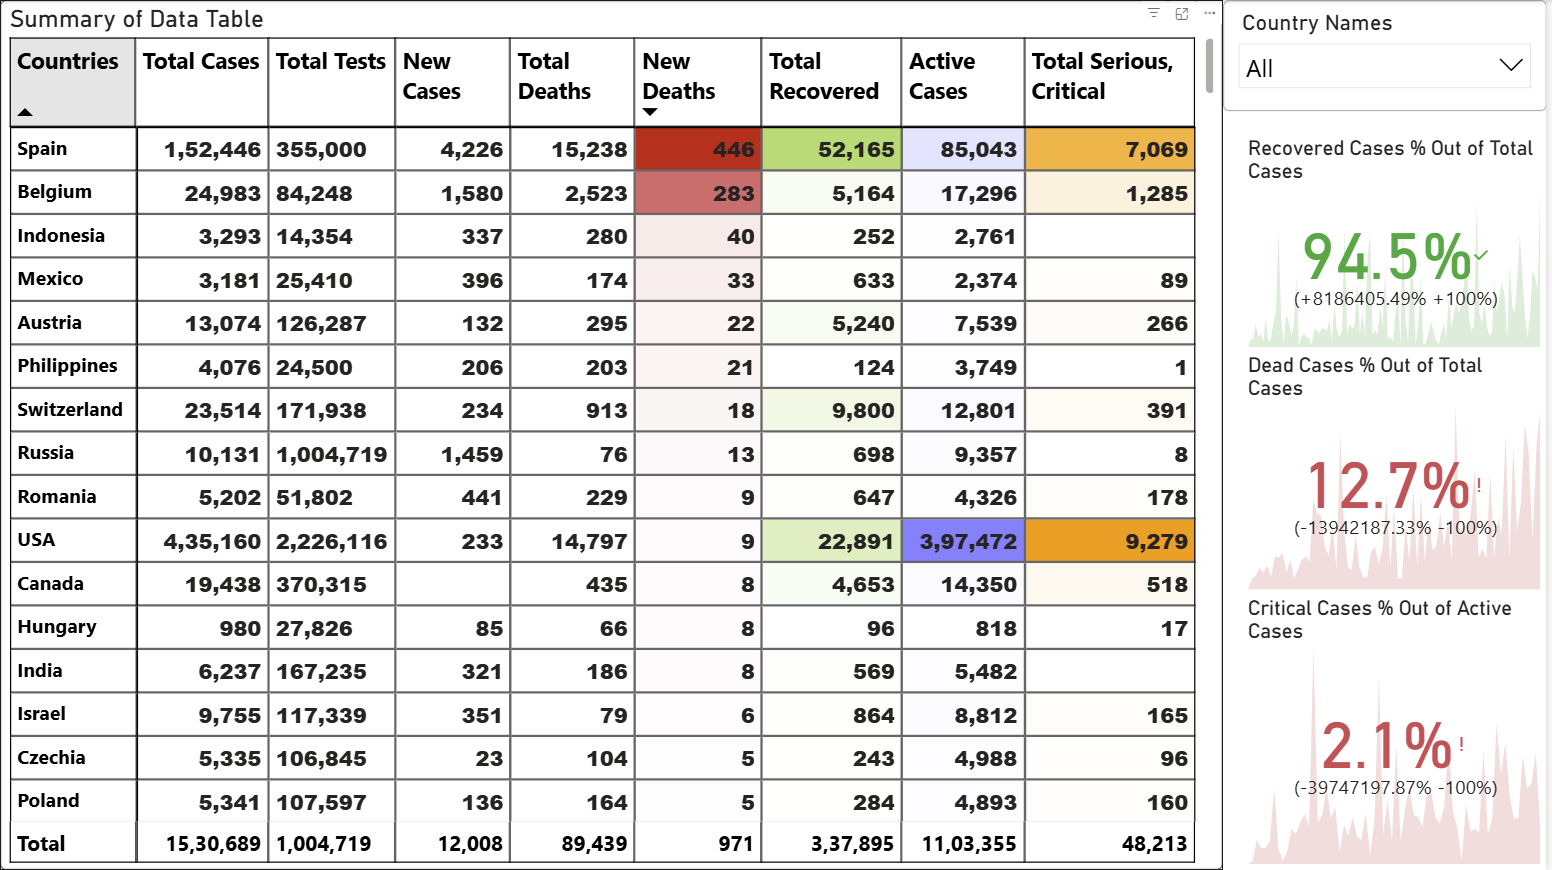

What the dashboard file says about the page in this screenshot:
{"tool":"powerbi","page":{"name":"Summary","canvas":[1280,720],"ordinal":6},"visuals":[{"type":"kpi","title":"Dead Cases % Out of Total Cases","fields":{"Goal":["Sum(CoronaData.Total Cases)"],"Indicator":["CoronaData.% Dead"],"TrendLine":["CoronaData.Total Deaths"]},"box":[1028.2,292.3,251.8,200.7],"z":0},{"type":"pivotTable","title":"Summary of Data Table","fields":{"Rows":["Coronavirus Data.Countries, Others"],"Values":["Sum(Coronavirus Data.Total Cases)","Min(Coronavirus Data.Total Tests)","Sum(Coronavirus Data.New Cases)","Sum(Coronavirus Data.Total Deaths)","Sum(Coronavirus Data.New Deaths)","Sum(Coronavirus Data.Total Recovered)","Sum(Coronavirus Data.Active Cases)","Sum(Coronavirus Data.Total Serious, Critical)"]},"box":[0,0,1012.2,720.3],"z":1000},{"type":"kpi","title":"Recovered Cases %  Out of Total Cases","fields":{"Goal":["Sum(CoronaData.Total Cases)"],"Indicator":["CoronaData.% Recovered"],"TrendLine":["CoronaData.Total Recovered"]},"box":[1028.2,112.7,251.8,179.6],"z":2000},{"type":"kpi","title":"Critical Cases % Out of Active Cases","fields":{"Goal":["Sum(CoronaData.Active Cases)"],"Indicator":["CoronaData.% Critical"],"TrendLine":["CoronaData.Serious, Critical"]},"box":[1028.2,493,251.8,227.1],"z":3000},{"type":"slicer","title":"F","fields":{"Values":["CoronaData.Countries, Others"]},"box":[1012.3,0,267.7,92.2],"z":5000}]}

Visuals, with their boxes on the page's 1280x720 design canvas (x1, y1, x2, y2). These are canvas units, not pixel positions in the 1552x870 screenshot, which may show the page scaled, cropped or inside an application window:
"Dead Cases % Out of Total Cases" kpi: 1028:292:1280:493
"Summary of Data Table" pivotTable: 0:0:1012:720
"Recovered Cases %  Out of Total Cases" kpi: 1028:113:1280:292
"Critical Cases % Out of Active Cases" kpi: 1028:493:1280:720
"F" slicer: 1012:0:1280:92
